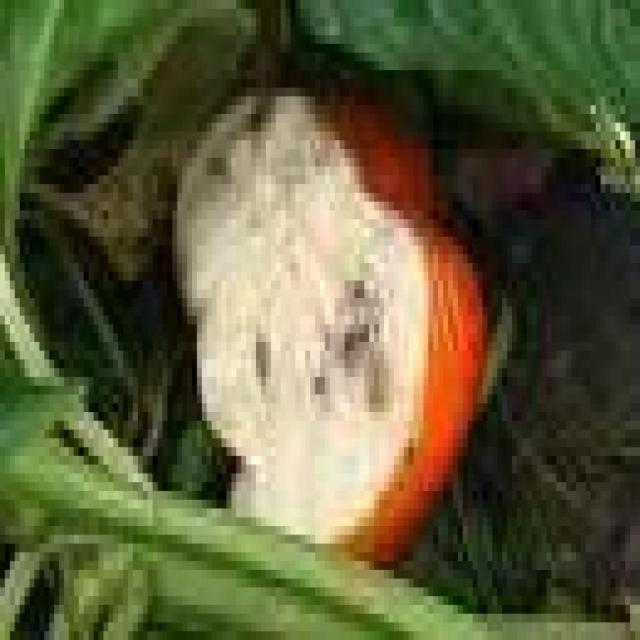Sunscald Fruit: (102, 41, 282, 362)
